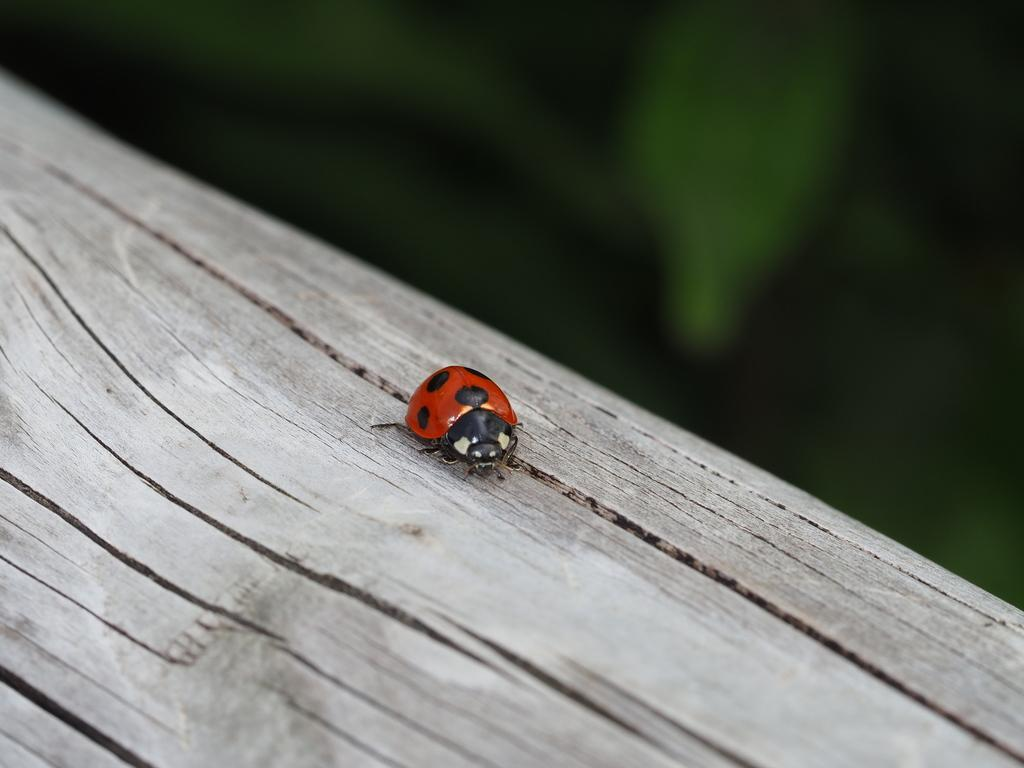ladybug: (369, 365, 529, 485)
